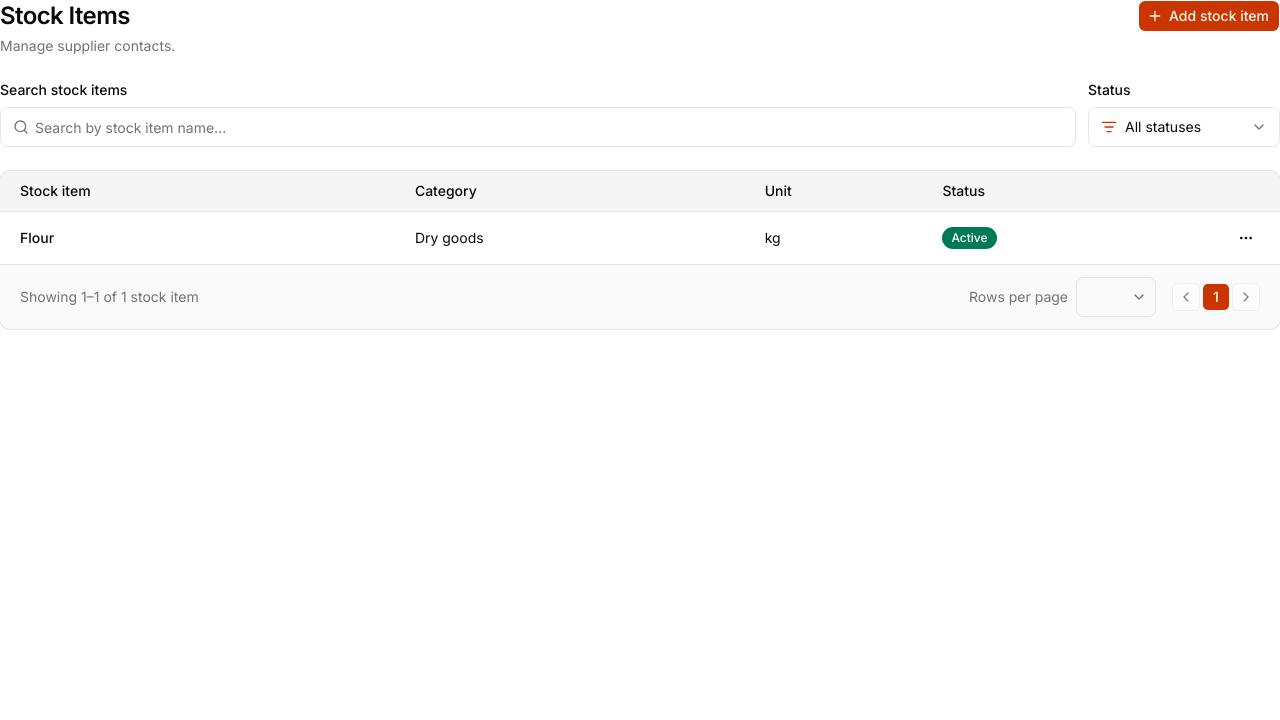
catalog directories › keeps stock item category and unit data visible and exposes permitted creation
This screenshot has width=1280, height=720.
Expected: the text "kg" is shown, [765,229,781,246]
Click the button "Add stock item" at (1209,16), box [1138,0,1279,32]
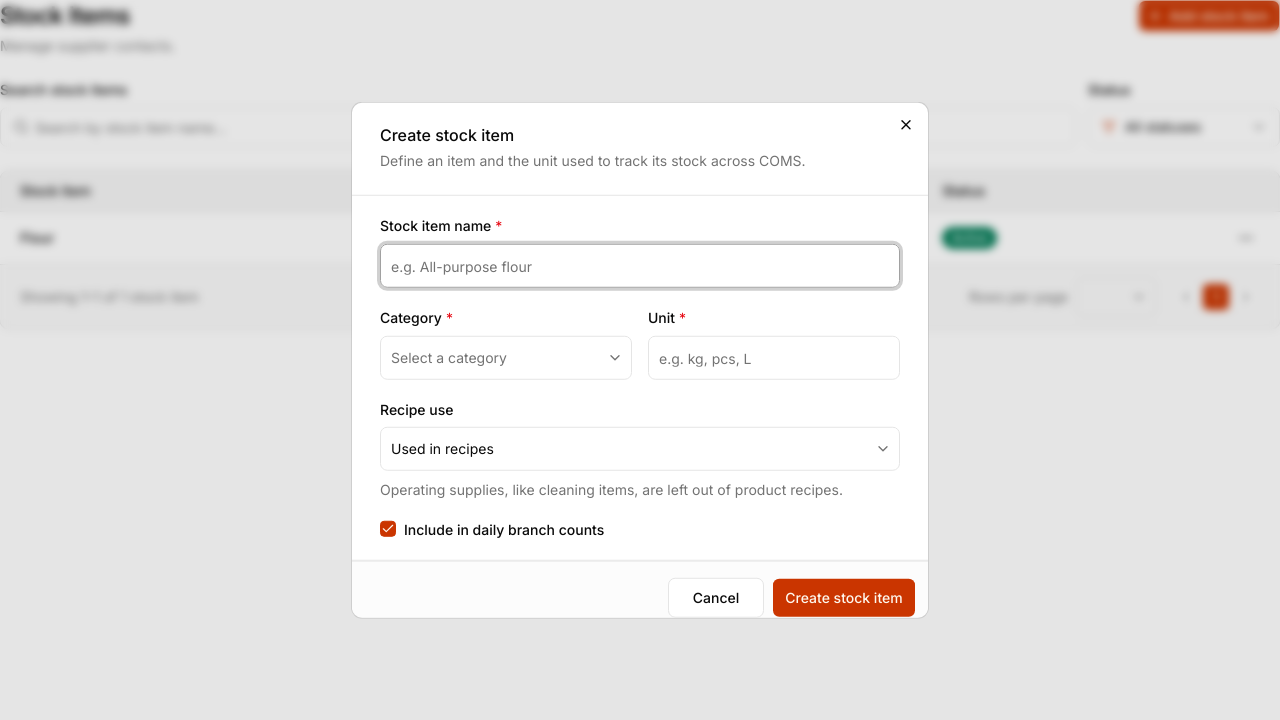
Result: the dialog "Create stock item" is shown at [352,103,928,617]
